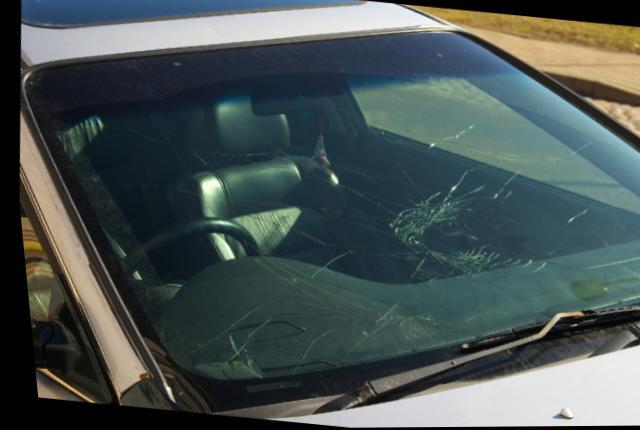glass shatter: (27, 34, 640, 382)
